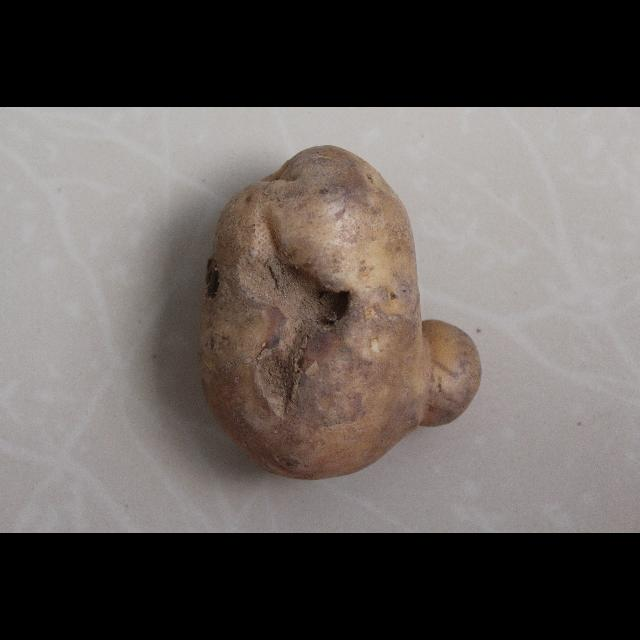Diseased-fungal potato: (193, 138, 485, 498)
